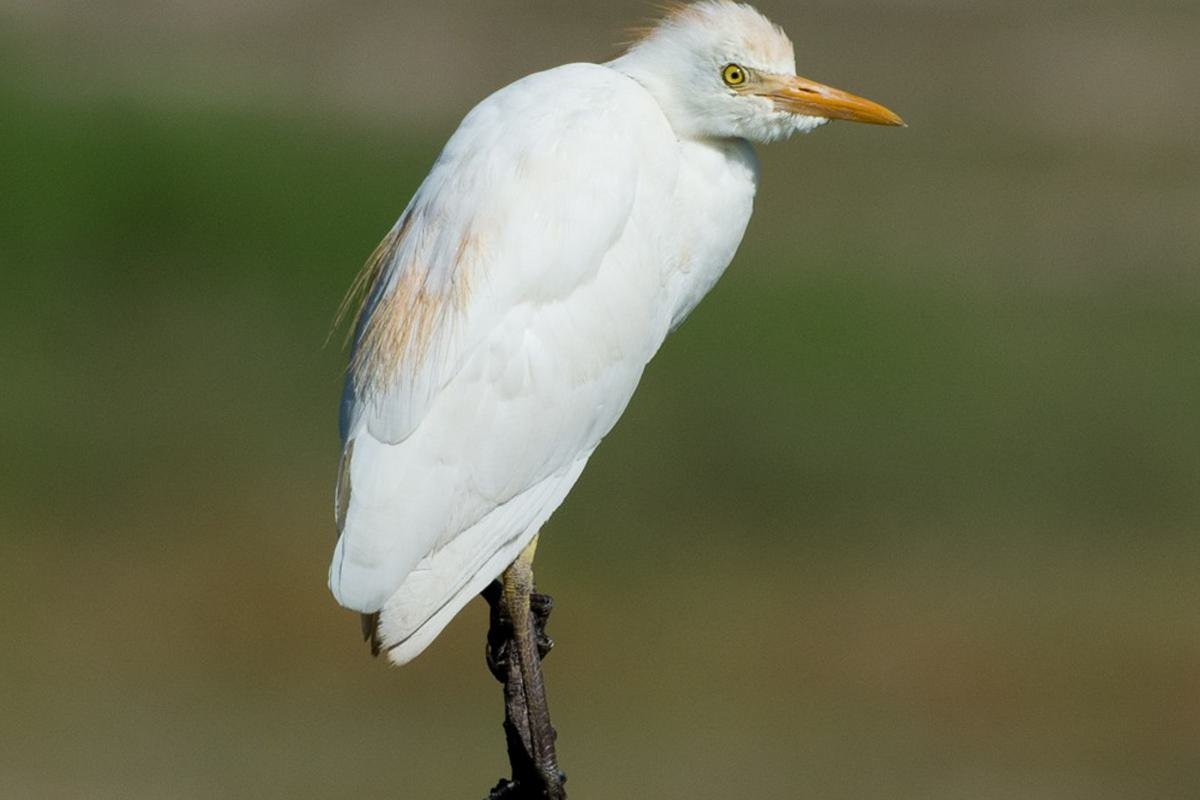egret: (316, 8, 905, 753)
